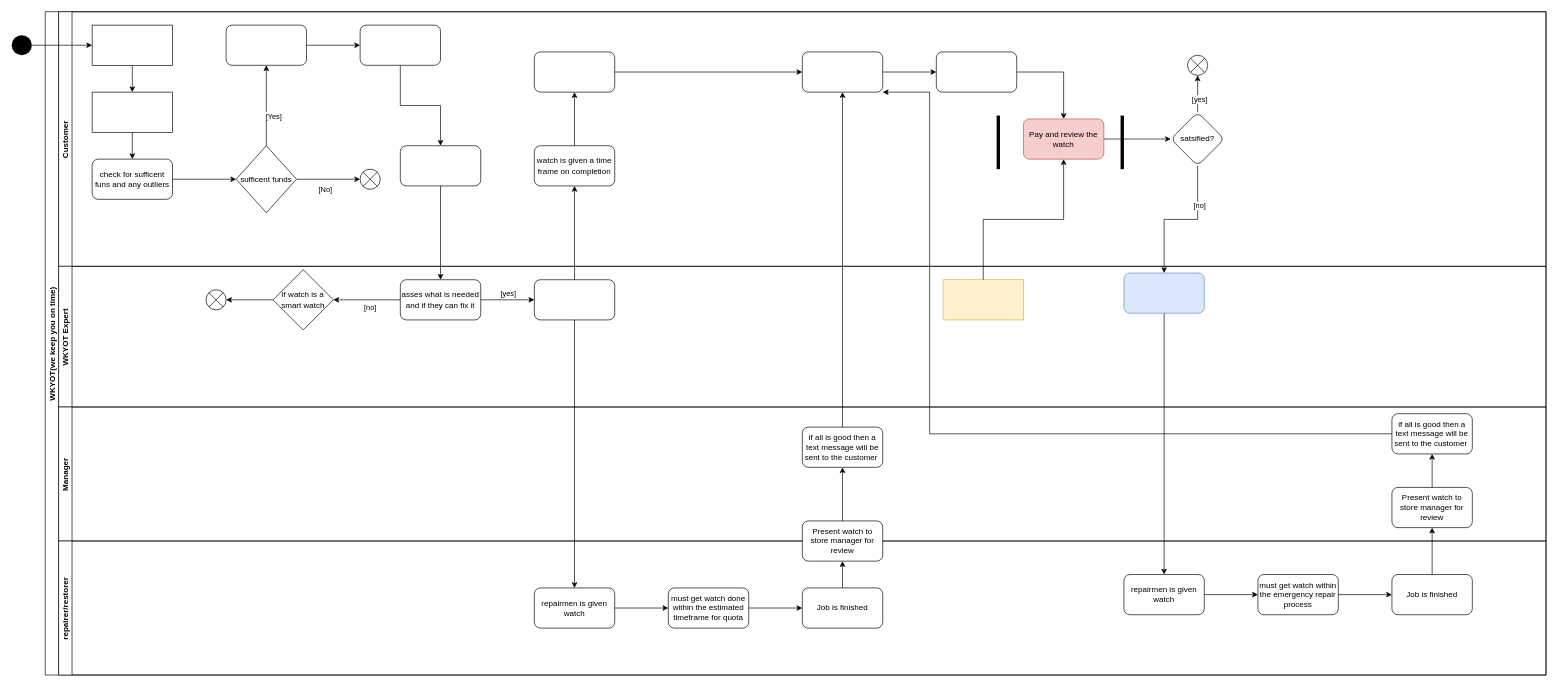
This 1558x687 diagram has some shape labels left out. The shapes that lost their labels are listed below. From the top down, each one's centre as x and y in pixels, then its label:
At point (132, 44): "Need to have Watch repaired/restored".
At point (266, 44): "Bring items to Store to get fixed".
At point (400, 44): "look for a representative to help with problem".
At point (574, 71): "Customer is to wait until job is done".
At point (842, 71): "Message is given that the watch is done and told to return".
At point (976, 71): "return to store and pay for the watch".
At point (132, 111): "Make sure you have all items".
At point (440, 165): "give Items given to Expert as well as information".
At point (574, 299): "Estimate time needed to repair/restore watch".
At point (982, 299): "ask customer to review the watch".
At point (1163, 292): "if unsatsified and problem cannot be fixed immidiatley ERP will be initated".
